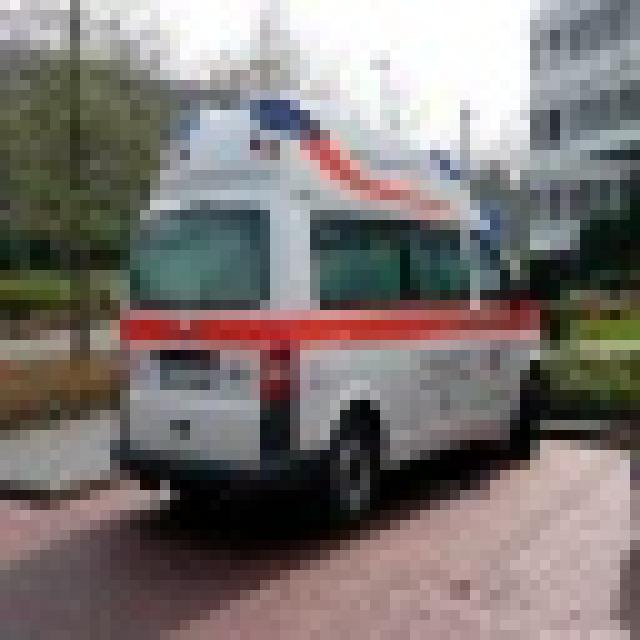Ambulance: (100, 90, 540, 520)
